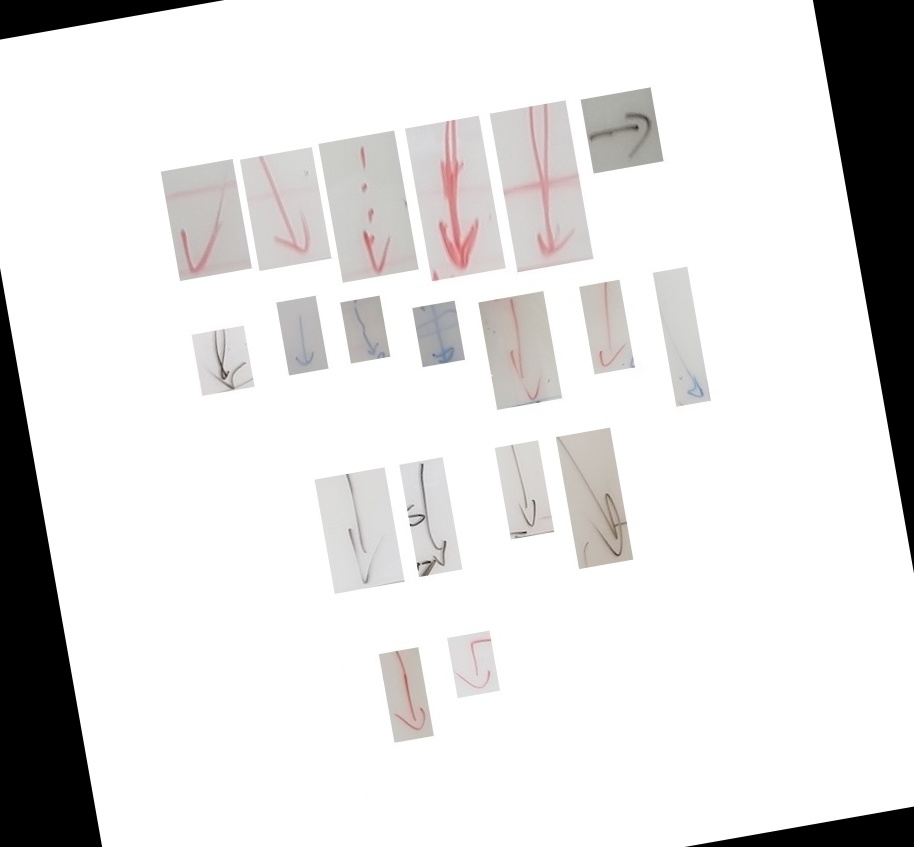arrow: (504, 170, 595, 326), (420, 216, 502, 333), (591, 129, 666, 256), (562, 514, 638, 625), (332, 541, 404, 645), (343, 235, 412, 337), (491, 368, 559, 467), (258, 228, 325, 322), (177, 254, 254, 332), (409, 533, 465, 632), (584, 346, 640, 431), (501, 512, 559, 590), (387, 721, 435, 796), (200, 395, 257, 451), (281, 368, 330, 433), (668, 396, 714, 462), (418, 371, 469, 426), (347, 363, 393, 419), (456, 708, 501, 753)
